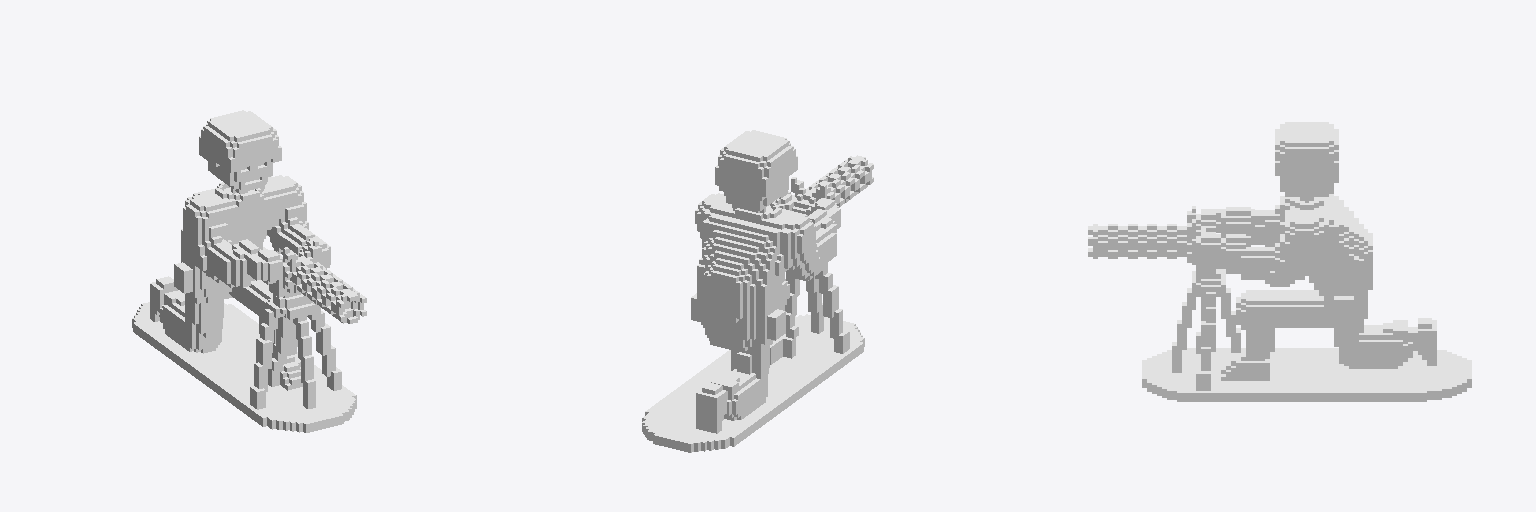
File: machinegun_soldier_LVL1_2.0.obj
3 views of the same model, side by side, from view 1: azimuth 30°, elevation 25°; view 2: azimuth 150°, elevation 25°; view 3: azimuth 270°, elevation 25° (orthographic).
Visible parts, largest first — view 1: object 1; view 2: object 1; view 3: object 1.
Boxes of the visible parts, x1,y1,x2,y2 form: object 1: [132, 110, 366, 432]; object 1: [642, 130, 873, 452]; object 1: [1088, 122, 1471, 401].
Bounding box in the file's own units: 2.5 × 5.5 × 7.8.